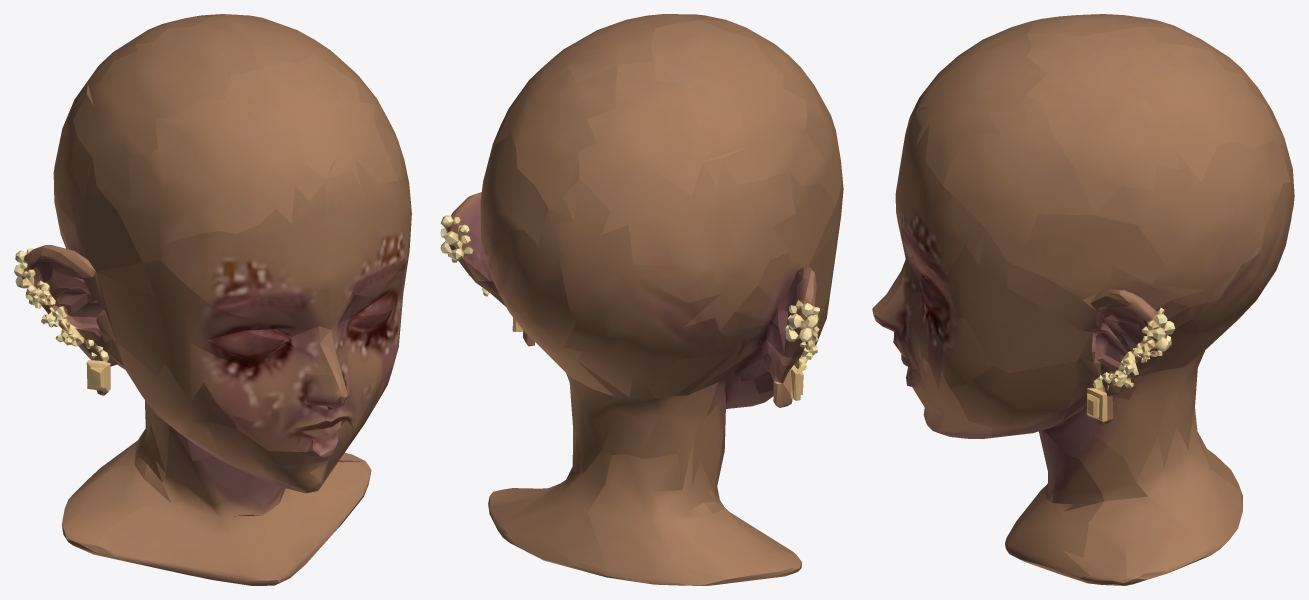
Rendered from fennal_f-tete.glb.
The picture shows the model from 3 angles, left to right: view 1: azimuth 30°, elevation 25°; view 2: azimuth 150°, elevation 25°; view 3: azimuth 270°, elevation 25°; orthographic projection.
Visible parts, largest first — view 1: geometry_0; view 2: geometry_0; view 3: geometry_0.
Part boxes in pixels (x1,y1,x2,y2): geometry_0: [14, 14, 411, 585]; geometry_0: [440, 14, 843, 585]; geometry_0: [872, 14, 1294, 585].
Bounding box in the file's own units: 1.43 × 1.9 × 1.4.
1 material, 1 textured.
